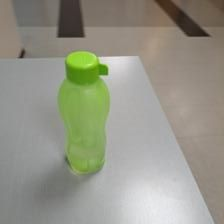bottle: (61, 48, 113, 174)
